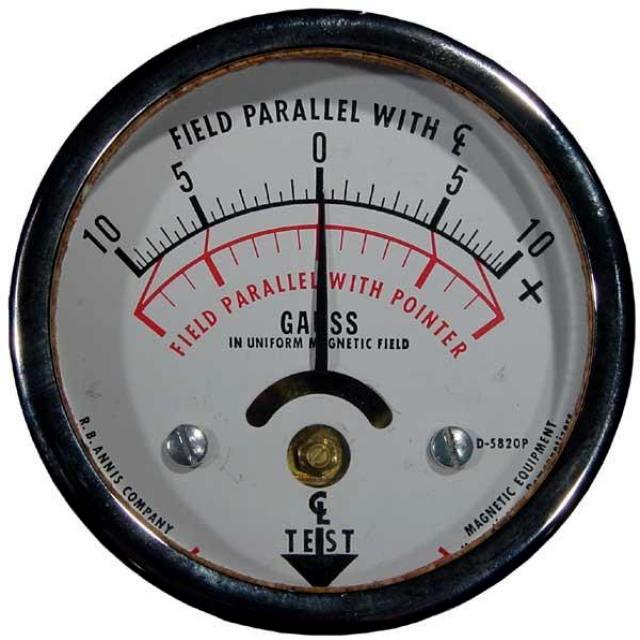Needle_Tip: (287, 161, 355, 257)
Needle_base: (261, 334, 393, 436)
max_value: (508, 204, 568, 273)
min_value: (68, 195, 142, 280)
